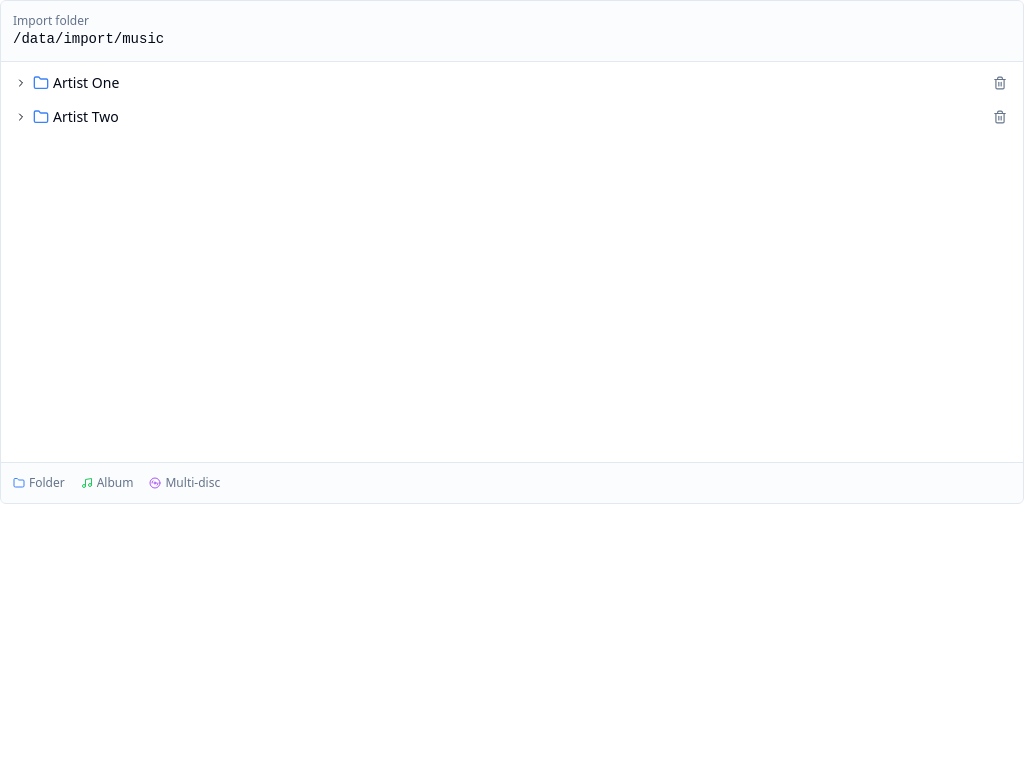
Test: ImportFolderTree › Folder deletion › opens a confirmation dialog without selecting the folder
The image size is (1024, 768).
Click the button named "Delete folder Artist One".
click(1000, 83)  # box 989,72 -> 1011,94
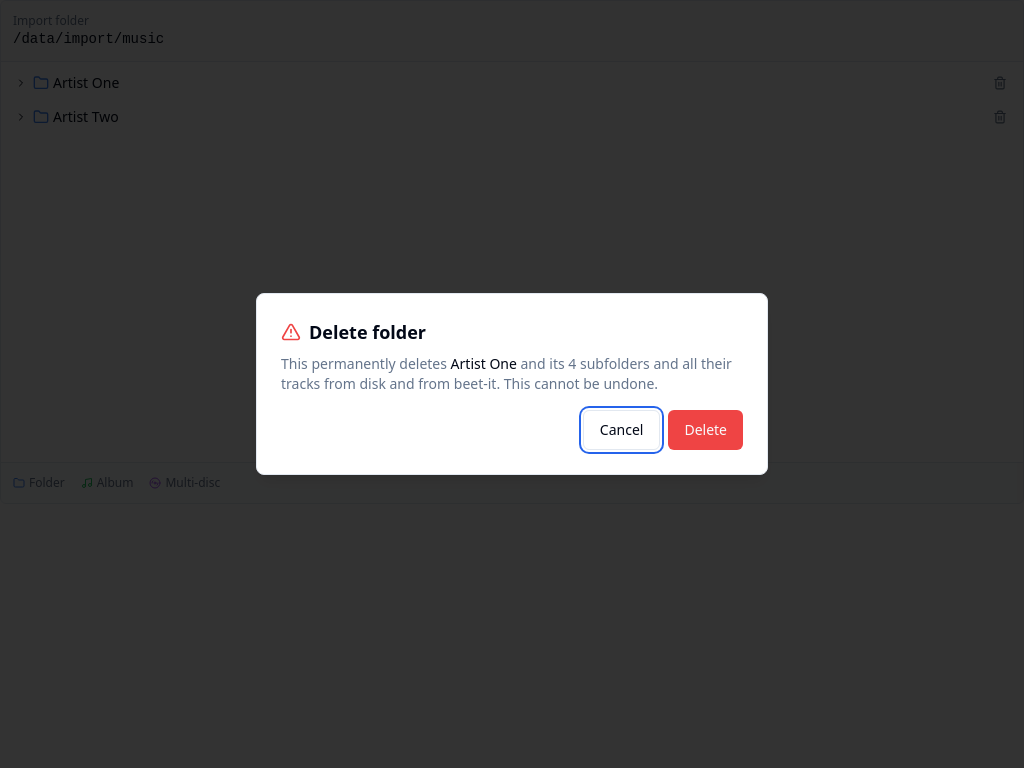
Result: the heading "Delete folder" is shown at 281,320 -> 426,344
